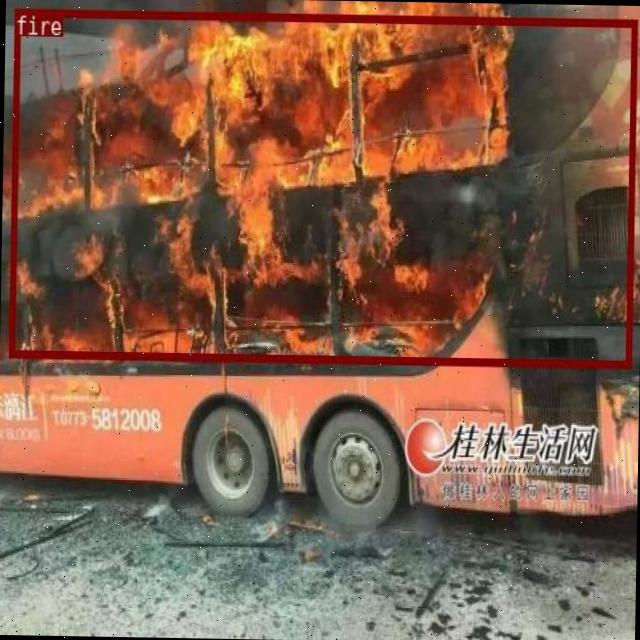fire: (8, 8, 636, 366)
